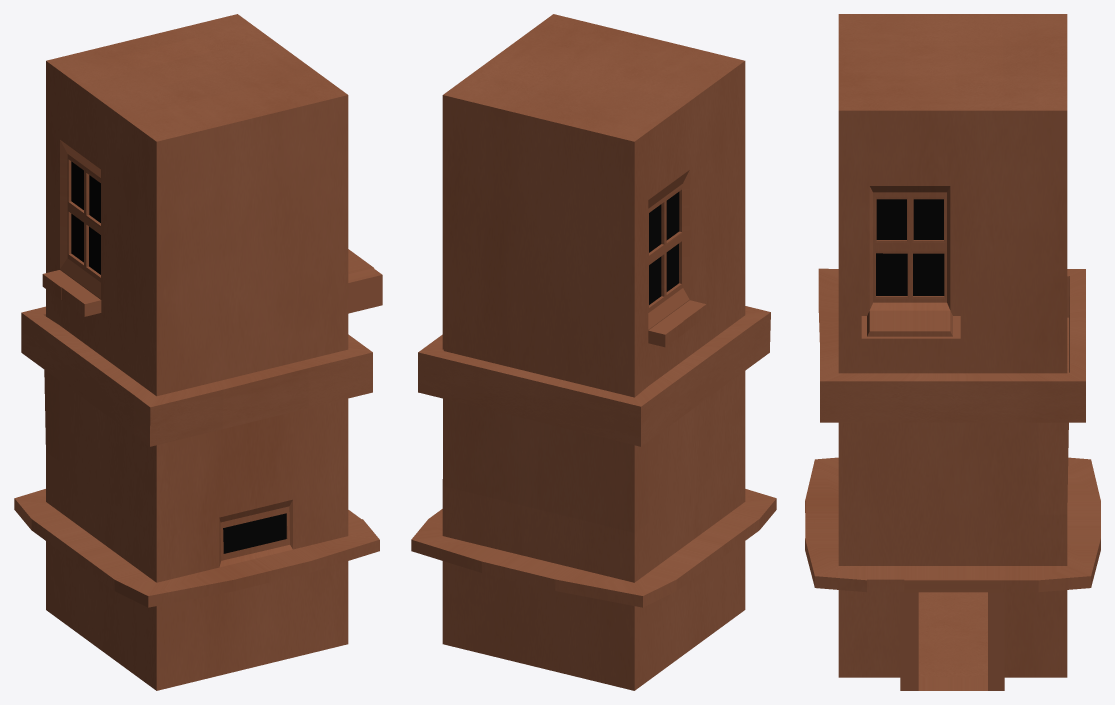
Rendered from yessir.fbx.
3 renders of one model, left to right at view 1: azimuth 30°, elevation 25°; view 2: azimuth 150°, elevation 25°; view 3: azimuth 270°, elevation 25°, orthographic. The views are drawn at different scales.
Parts seen in each view (by area): view 1: Cube; view 2: Cube; view 3: Cube.
Boxes of the visible parts, x1,y1,x2,y2 form: Cube: [14, 14, 382, 690]; Cube: [411, 14, 776, 690]; Cube: [805, 14, 1100, 690].
Bounding box in the file's own units: 277 × 548 × 259.
Materials: 3 (1 with a texture image).
